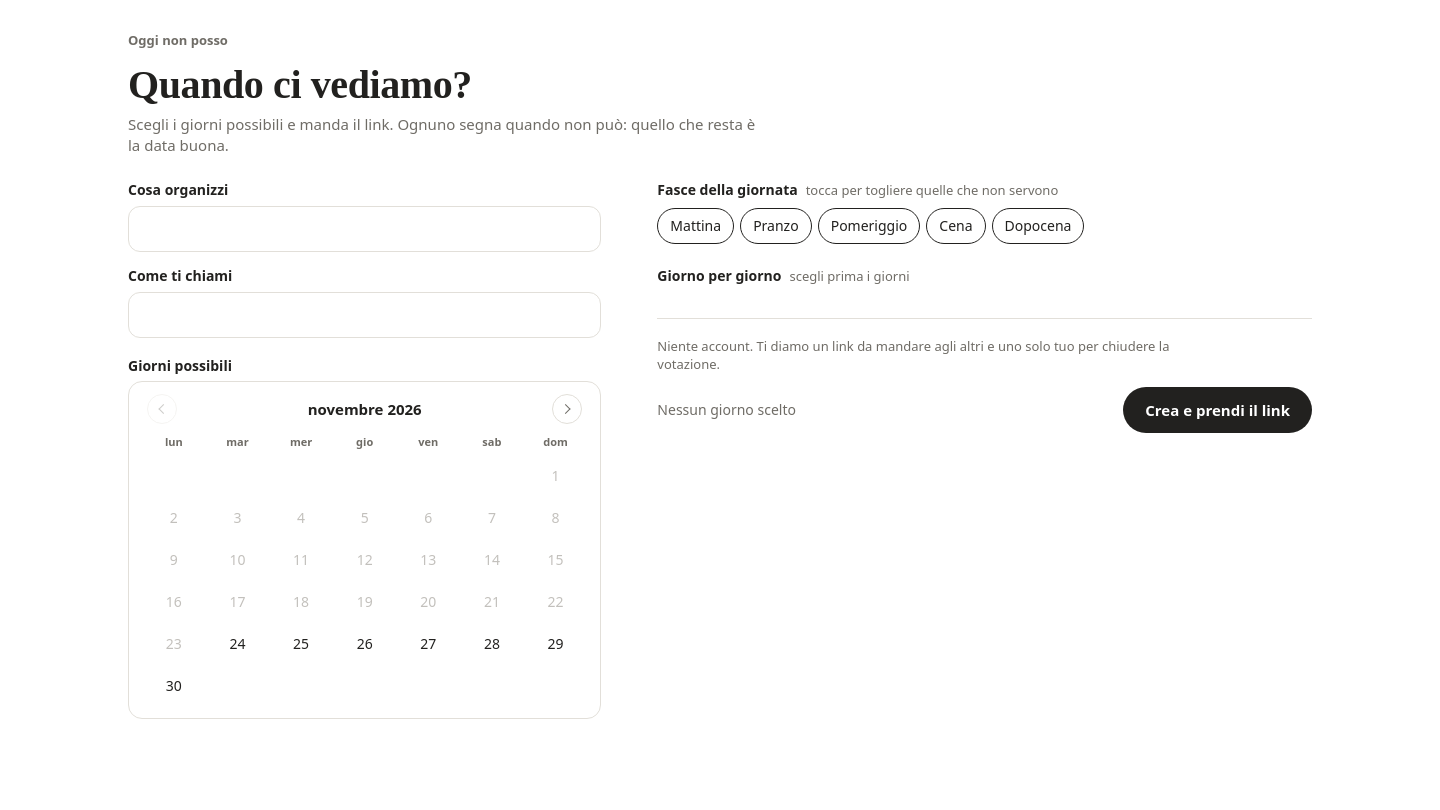
what can go wrong › says in Italian what the server answered: validation_failed
This screenshot has width=1440, height=810.
Step 1. Type "Rimpatriata di dicembre" into the field labelled "Cosa organizzi" → (365, 229), box [128,206,601,252]
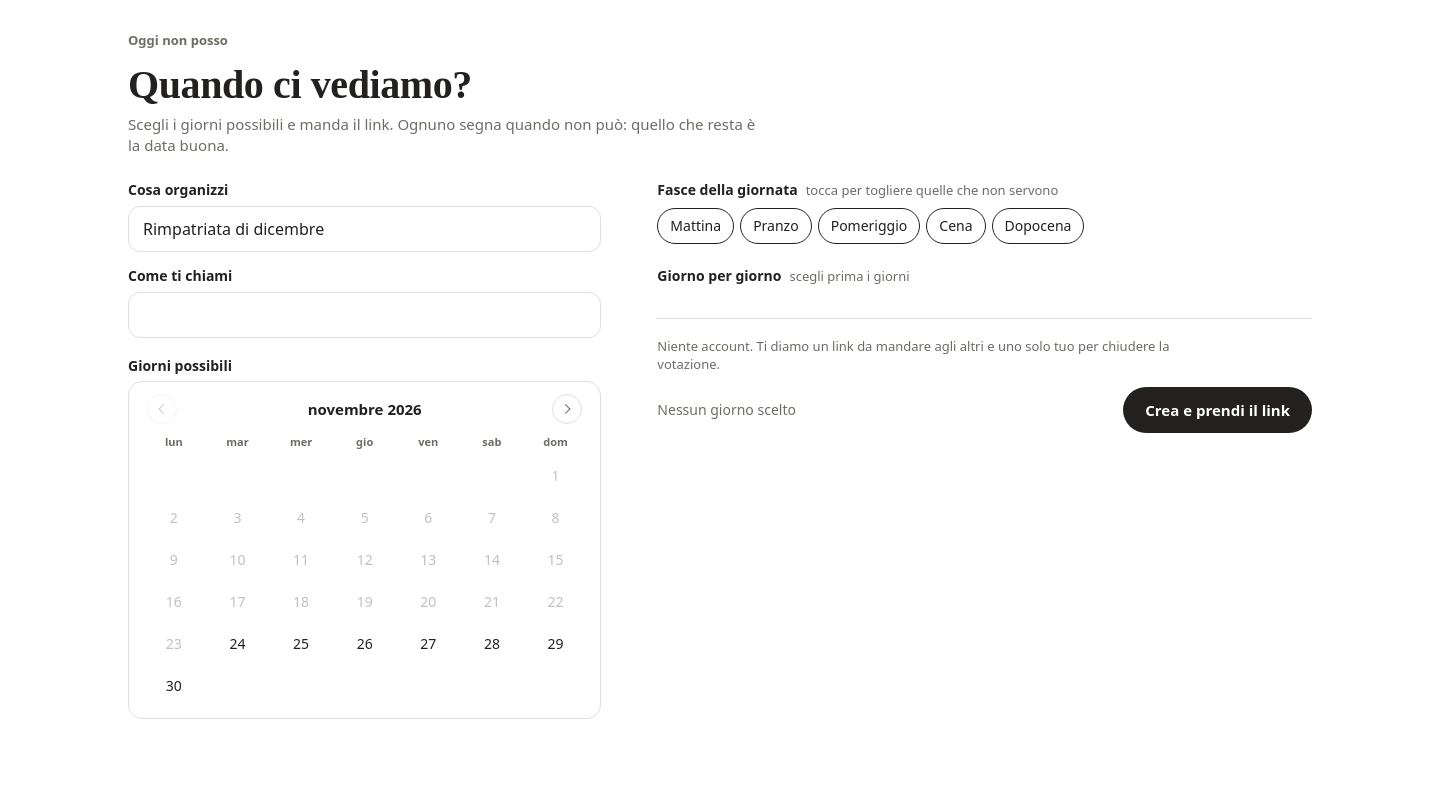
Step 2. Type "Giulia" into the field labelled "Come ti chiami" → (365, 315), box [128,292,601,338]
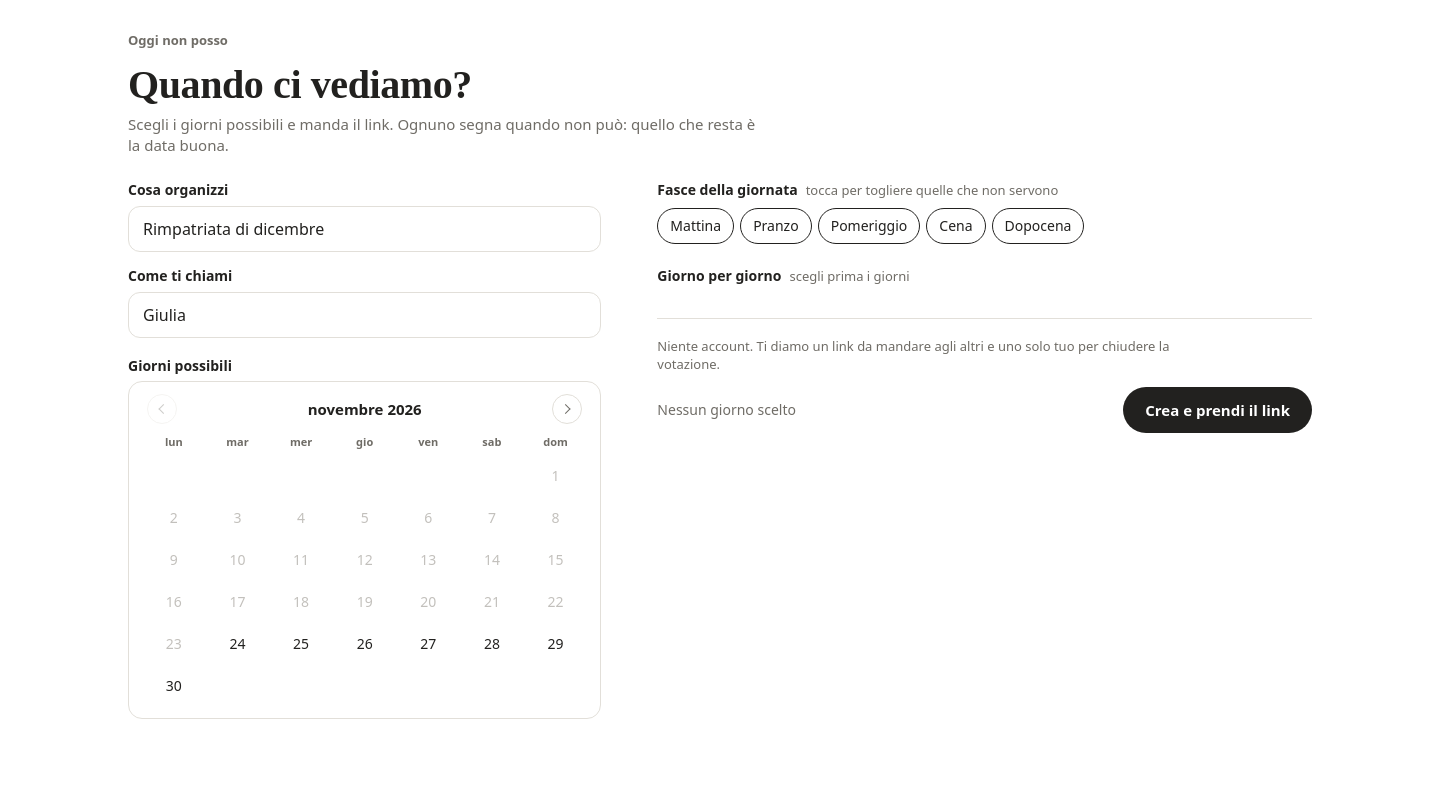
Step 3. Click the button named "sabato 28 novembre 2026" → (492, 644), box [472,624,512,664]
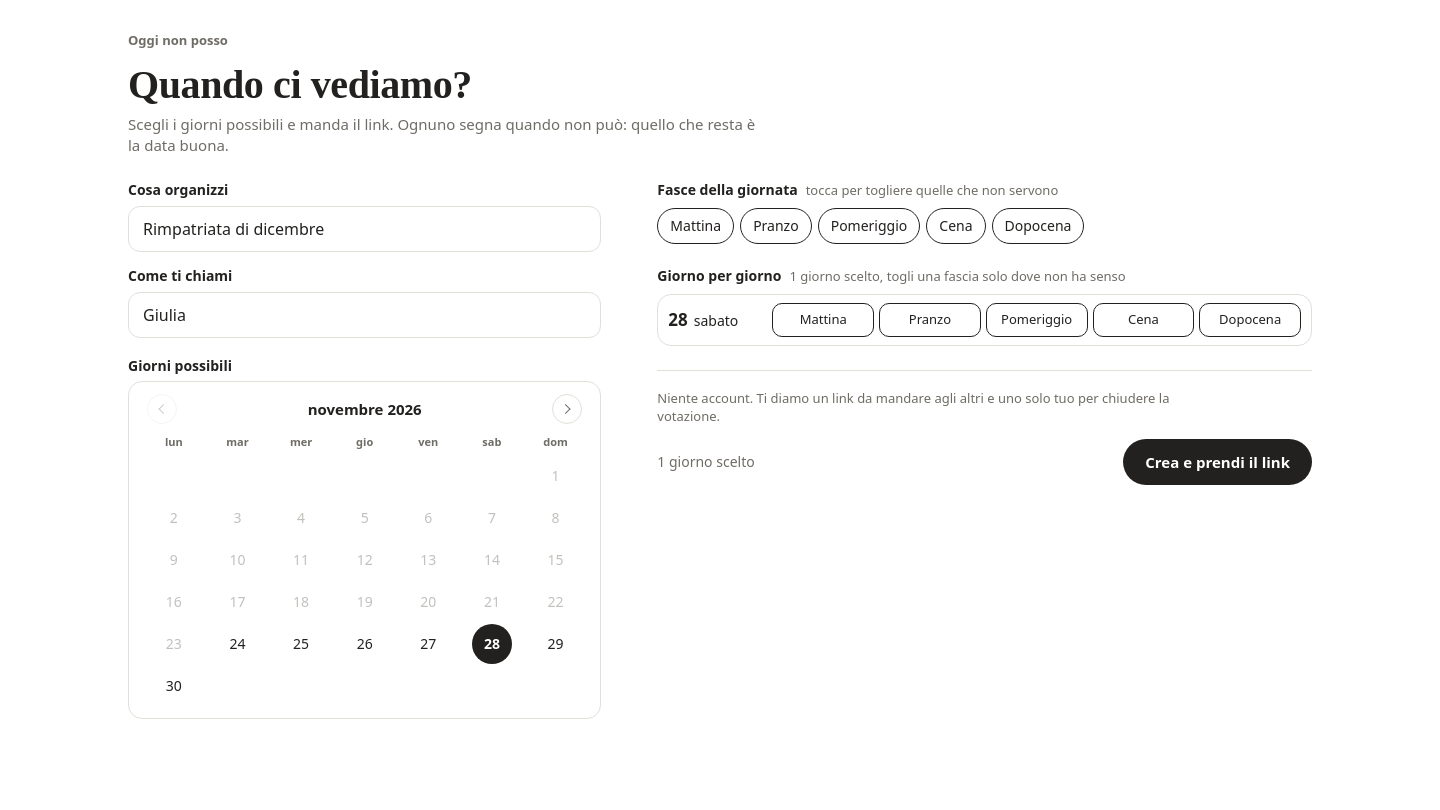
Step 4. Click the button "Crea e prendi il link" → (1218, 462), box [1123,439,1312,485]
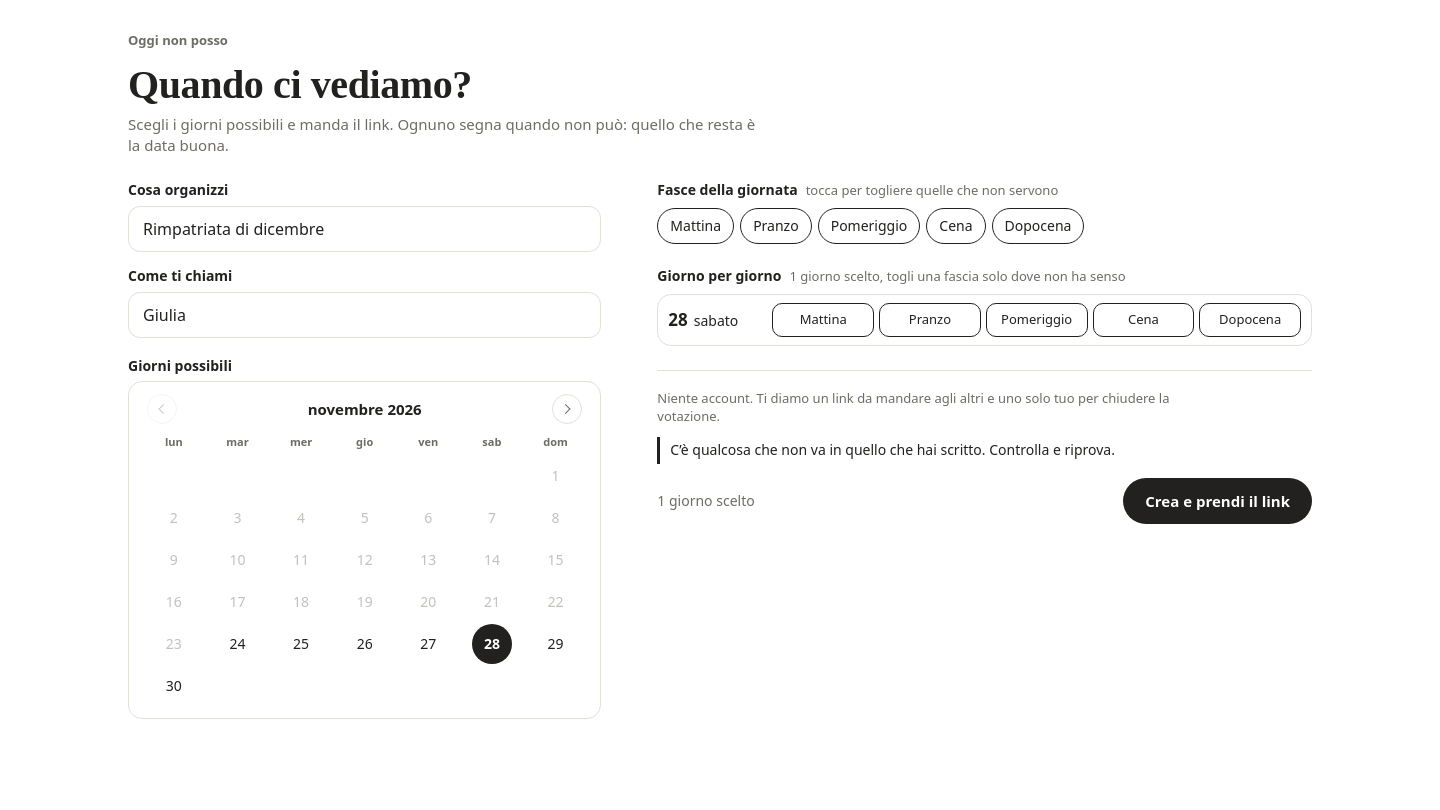
expect the button "Crea e prendi il link" is enabled: met, box [1123,478,1312,524]
expect the text "C’è qualcosa che non va in quello che hai scritto. Controlla e riprova." is shown: met, box [657,437,1312,464]
